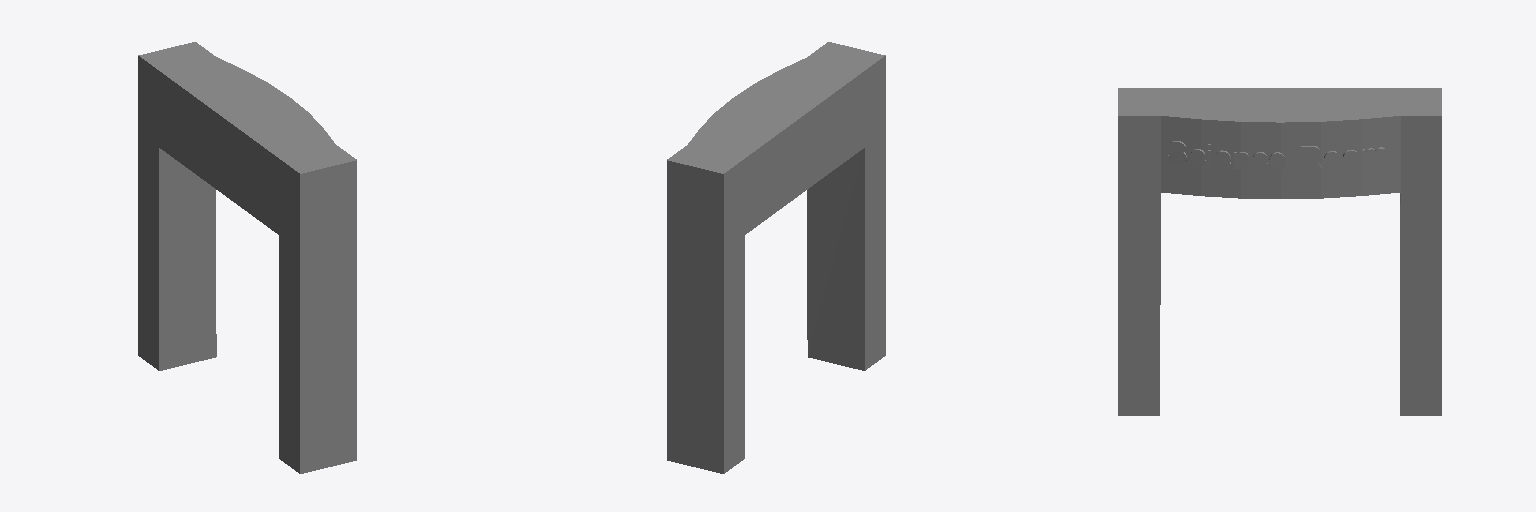
Rendered from Science_room_doorframe.obj.
The picture shows the model from 3 angles: view 1: azimuth 30°, elevation 25°; view 2: azimuth 150°, elevation 25°; view 3: azimuth 270°, elevation 25°; orthographic projection.
Visible parts, largest first — view 1: ??????; view 2: ??????; view 3: ??????.
Part boxes in pixels (x1,y1,x2,y2): ??????: (138, 42, 356, 473); ??????: (667, 42, 885, 473); ??????: (1118, 88, 1441, 415).
Bounding box in the file's own units: 0.8854 × 3.46 × 3.39.